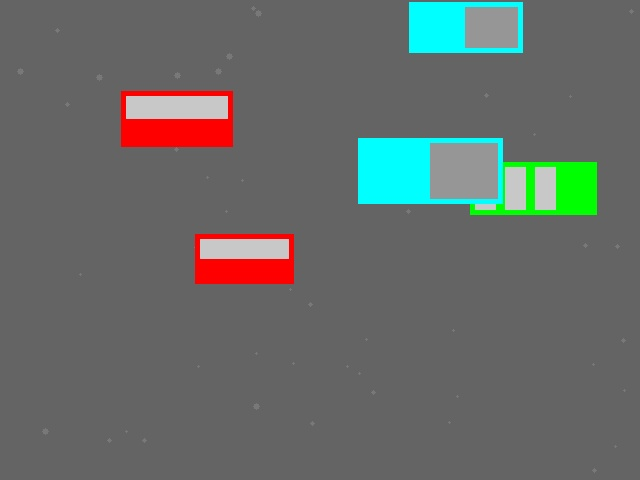bus: (470, 162, 596, 214)
car: (121, 91, 232, 146), (195, 234, 293, 283)
truck: (358, 138, 502, 203), (409, 2, 522, 52)
